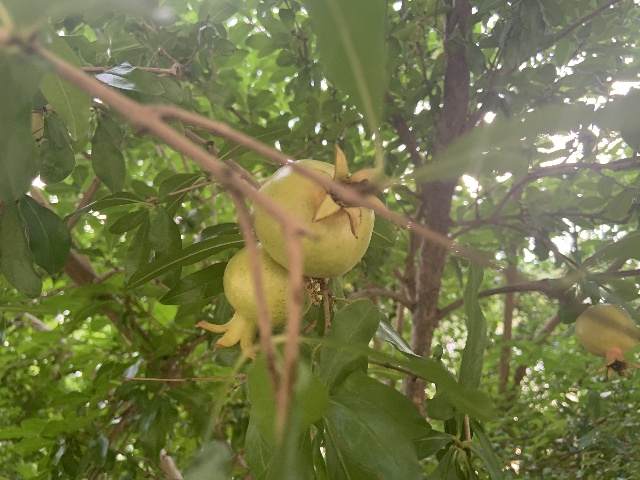mid-growth: (251, 142, 376, 277), (195, 241, 312, 358), (575, 302, 639, 380)
